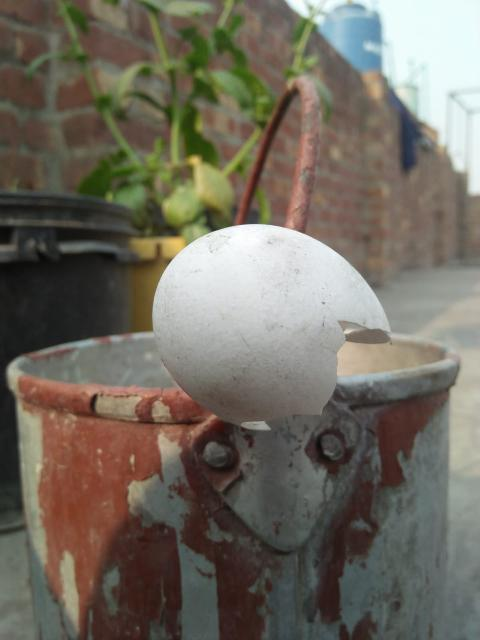Roto: (153, 224, 393, 429)
